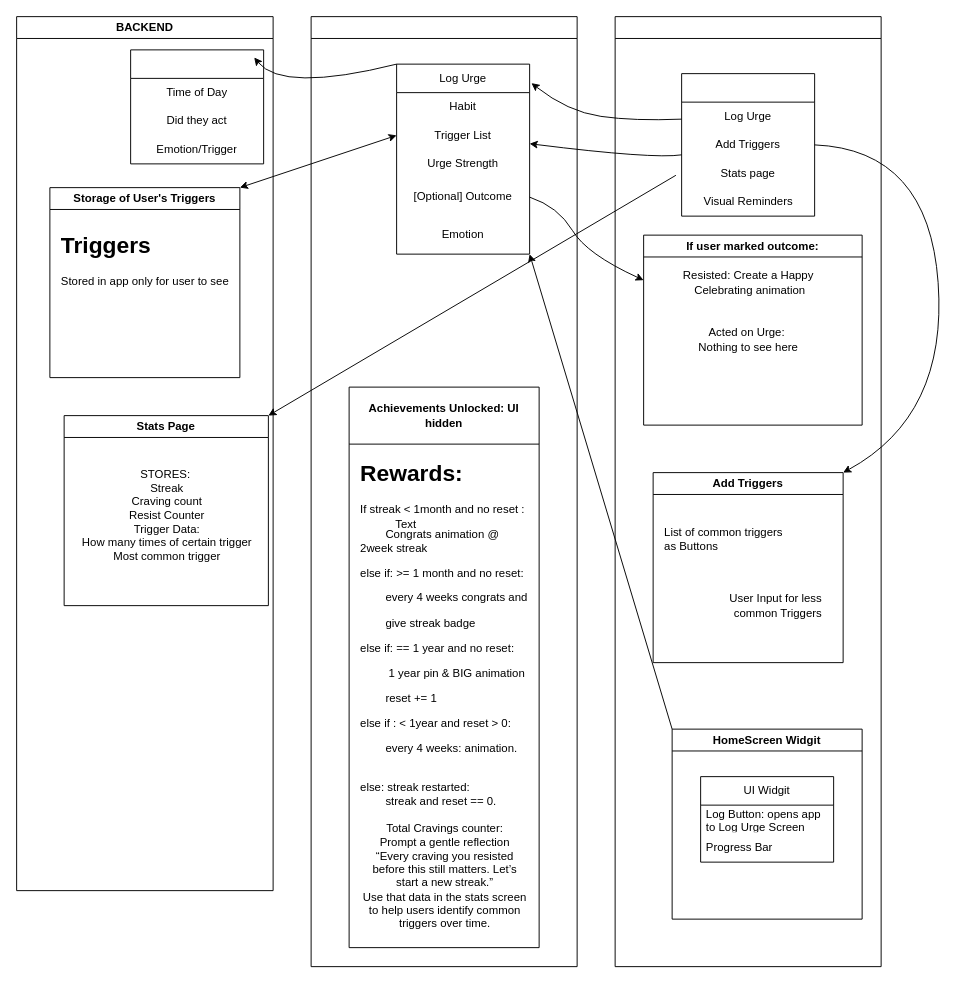
Image size: 956x983. Some labels were removed from this diagram. Each missing label, with the box of its shape:
FRONTEND: (310, 16, 577, 967)
Home Page: (681, 73, 815, 216)
Log Urge .CSV: (130, 49, 264, 164)
UI: (614, 16, 881, 967)
